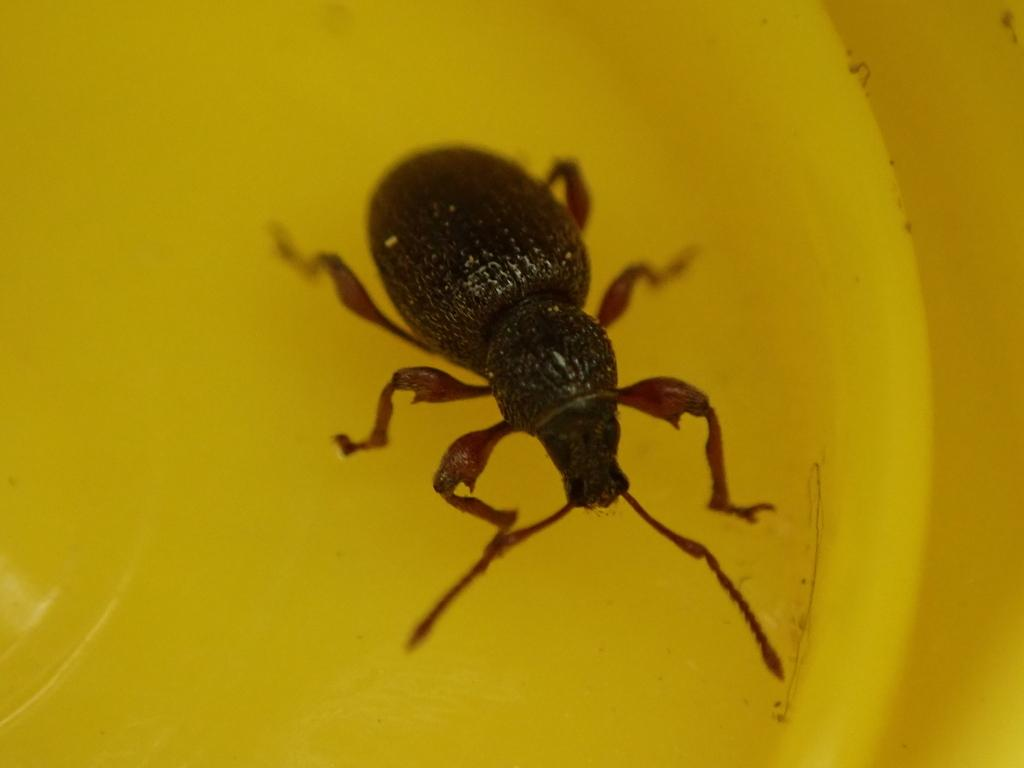weevils: (211, 102, 869, 748)
